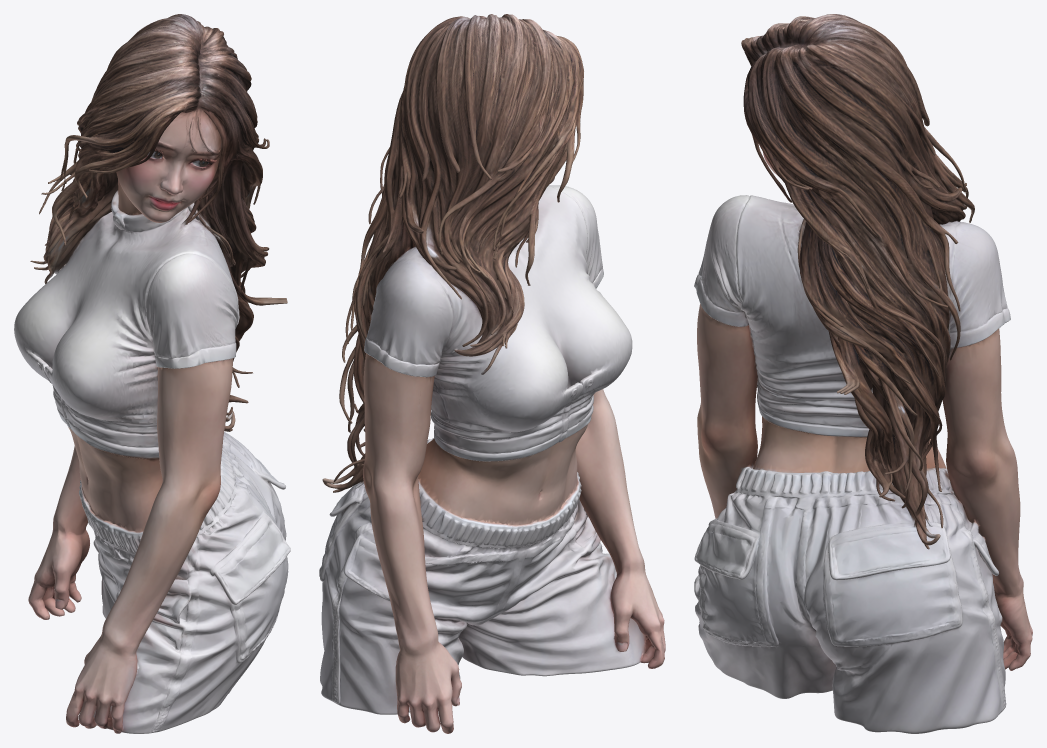
Rendered from companion2.glb.
The picture shows the model from 3 angles, left to right: view 1: azimuth 30°, elevation 25°; view 2: azimuth 150°, elevation 25°; view 3: azimuth 270°, elevation 25°; orthographic projection. The views are drawn at different scales.
Parts seen in each view (by area): view 1: tripo_node_19c03de7-c151-4f19-92b9-3ec65a6f97e2; view 2: tripo_node_19c03de7-c151-4f19-92b9-3ec65a6f97e2; view 3: tripo_node_19c03de7-c151-4f19-92b9-3ec65a6f97e2.
Part boxes in pixels (x1,y1,x2,y2): tripo_node_19c03de7-c151-4f19-92b9-3ec65a6f97e2: [14, 14, 290, 733]; tripo_node_19c03de7-c151-4f19-92b9-3ec65a6f97e2: [319, 14, 665, 733]; tripo_node_19c03de7-c151-4f19-92b9-3ec65a6f97e2: [694, 14, 1032, 733].
Bounding box in the file's own units: 0.4229 × 0.9791 × 0.4544.
1 material, 1 textured.
